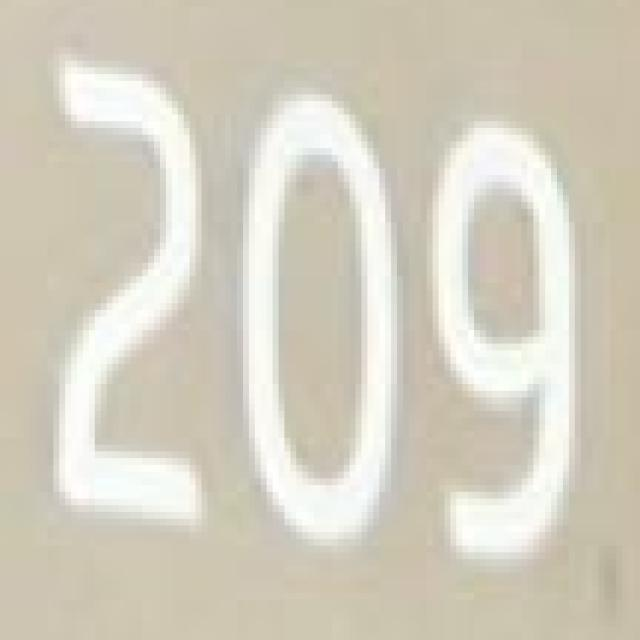character: (46, 49, 214, 535), (240, 85, 401, 552), (427, 111, 584, 573)
